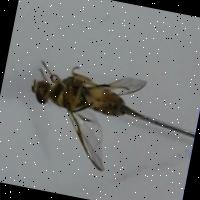Oriental-fruit-fly: (0, 32, 158, 183)
